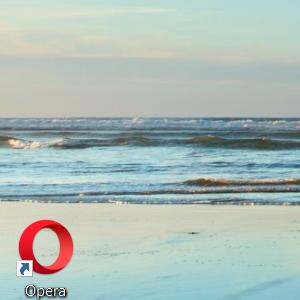opera: (16, 220, 73, 277)
